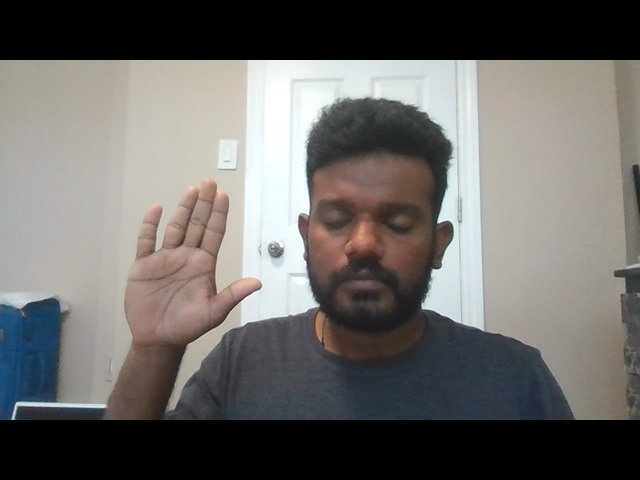hello: (123, 172, 265, 339)
